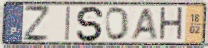A: (128, 7, 159, 41)
H: (158, 6, 185, 43)
I: (64, 6, 72, 42)
O: (105, 6, 130, 42)
S: (76, 5, 107, 43)
Z: (22, 4, 50, 43)
